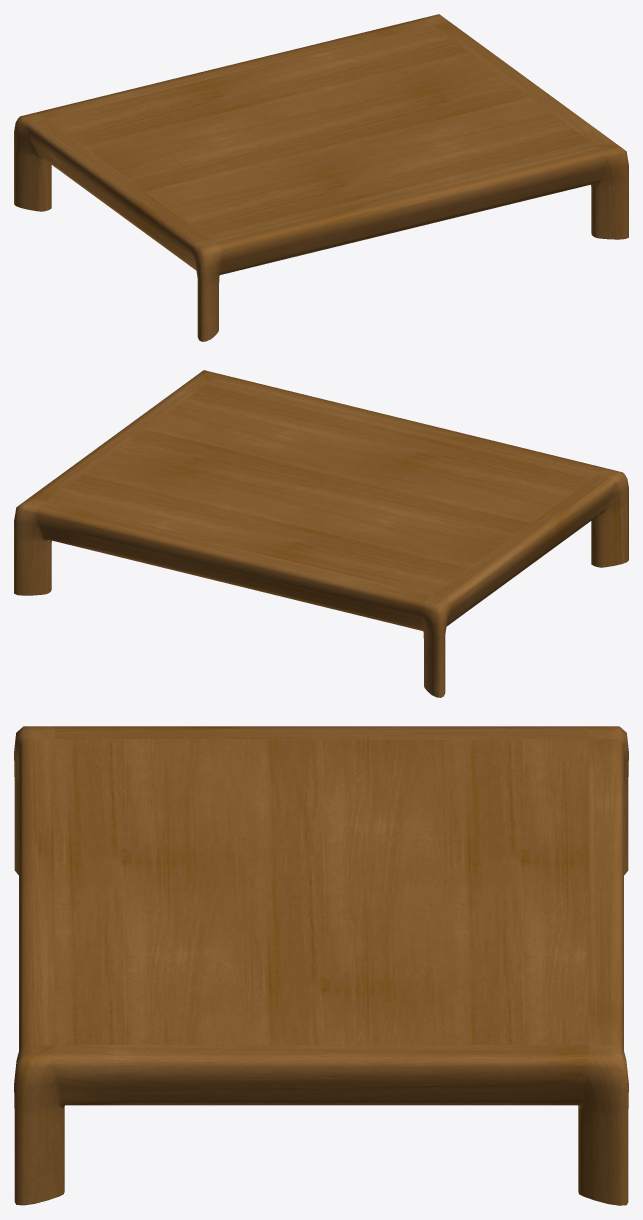
File: ext_table.obj
The picture shows the model from 3 angles, top to bottom: view 1: azimuth 30°, elevation 25°; view 2: azimuth 150°, elevation 25°; view 3: azimuth 270°, elevation 25°; orthographic projection. The views are drawn at different scales.
Visible parts, largest first — view 1: mesita_ext2_Cube.012; view 2: mesita_ext2_Cube.012; view 3: mesita_ext2_Cube.012.
Boxes of the visible parts, <box> form: mesita_ext2_Cube.012: <box>14,14,628,341</box>; mesita_ext2_Cube.012: <box>14,370,628,697</box>; mesita_ext2_Cube.012: <box>14,726,628,1205</box>.
Size of the model in its own units: 99.81 by 19.75 by 76.35.
